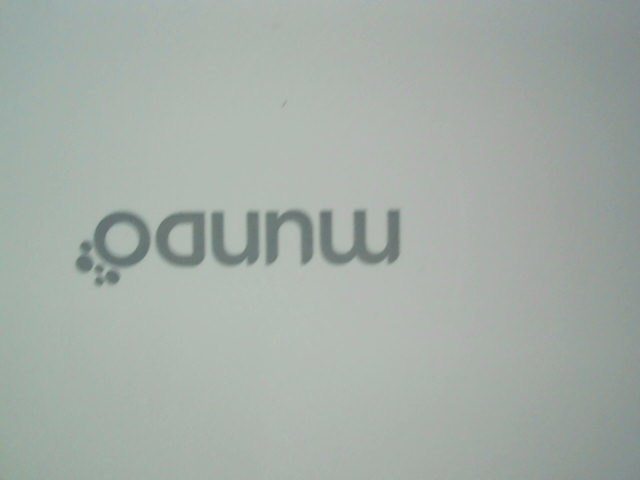BI_MUNDO: (64, 196, 419, 300)
